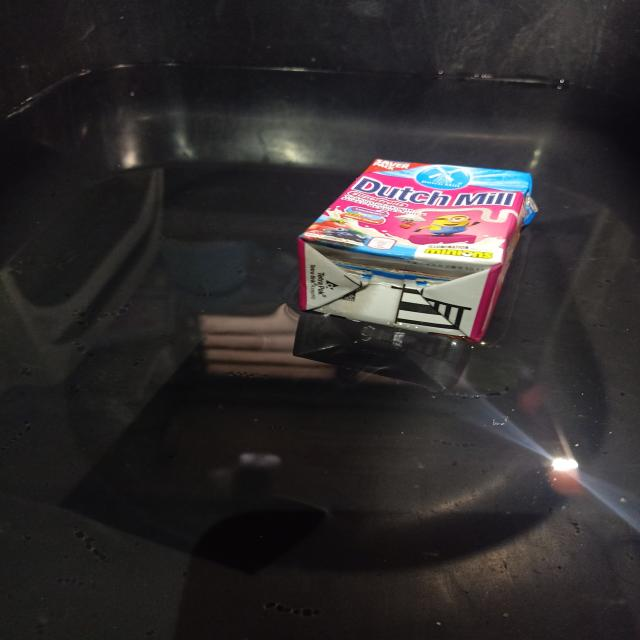Cardboard Box: (298, 159, 538, 342)
